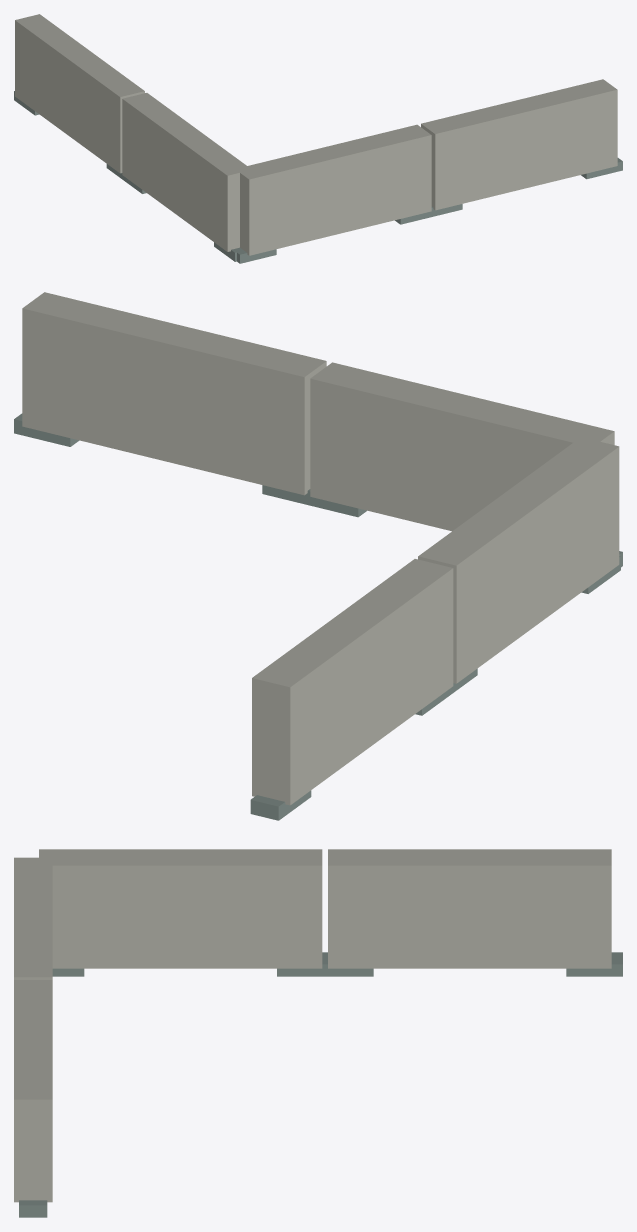
The model's file is SM_Vallas_v1_ObraL_LOD1.fbx.
3 renders of one model, top to bottom at view 1: azimuth 30°, elevation 25°; view 2: azimuth 150°, elevation 25°; view 3: azimuth 270°, elevation 25°, orthographic. The views are drawn at different scales.
Visible parts, largest first — view 1: SM_ambiente_aerodromo_v21_LOD1; view 2: SM_ambiente_aerodromo_v21_LOD1; view 3: SM_ambiente_aerodromo_v21_LOD1.
Part boxes in pixels (left/top/right/bottom): SM_ambiente_aerodromo_v21_LOD1: left=14, top=14, right=622, bottom=263; SM_ambiente_aerodromo_v21_LOD1: left=14, top=292, right=622, bottom=820; SM_ambiente_aerodromo_v21_LOD1: left=14, top=849, right=622, bottom=1217.
Size of the model in its own units: 5.32 by 1.1 by 5.37.
